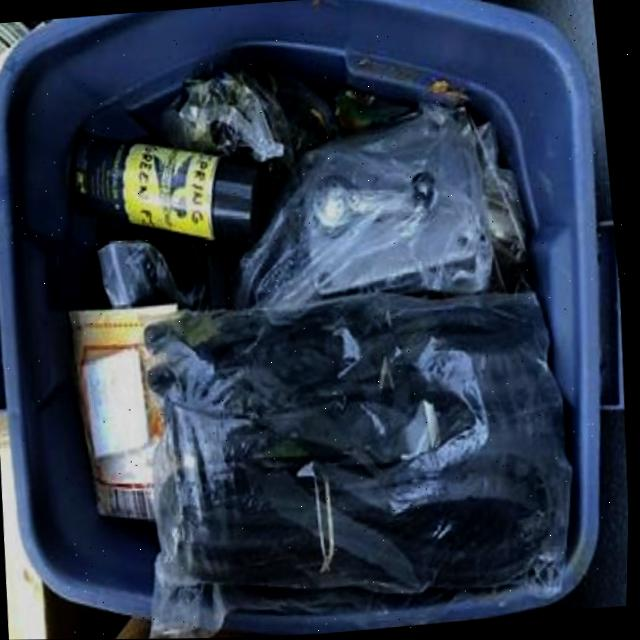Garbage: (0, 0, 602, 635)
Plastic: (164, 70, 341, 176)
Plastic_Bag: (148, 295, 573, 634), (241, 105, 519, 306)
Plastic_bottle: (76, 135, 272, 242)
